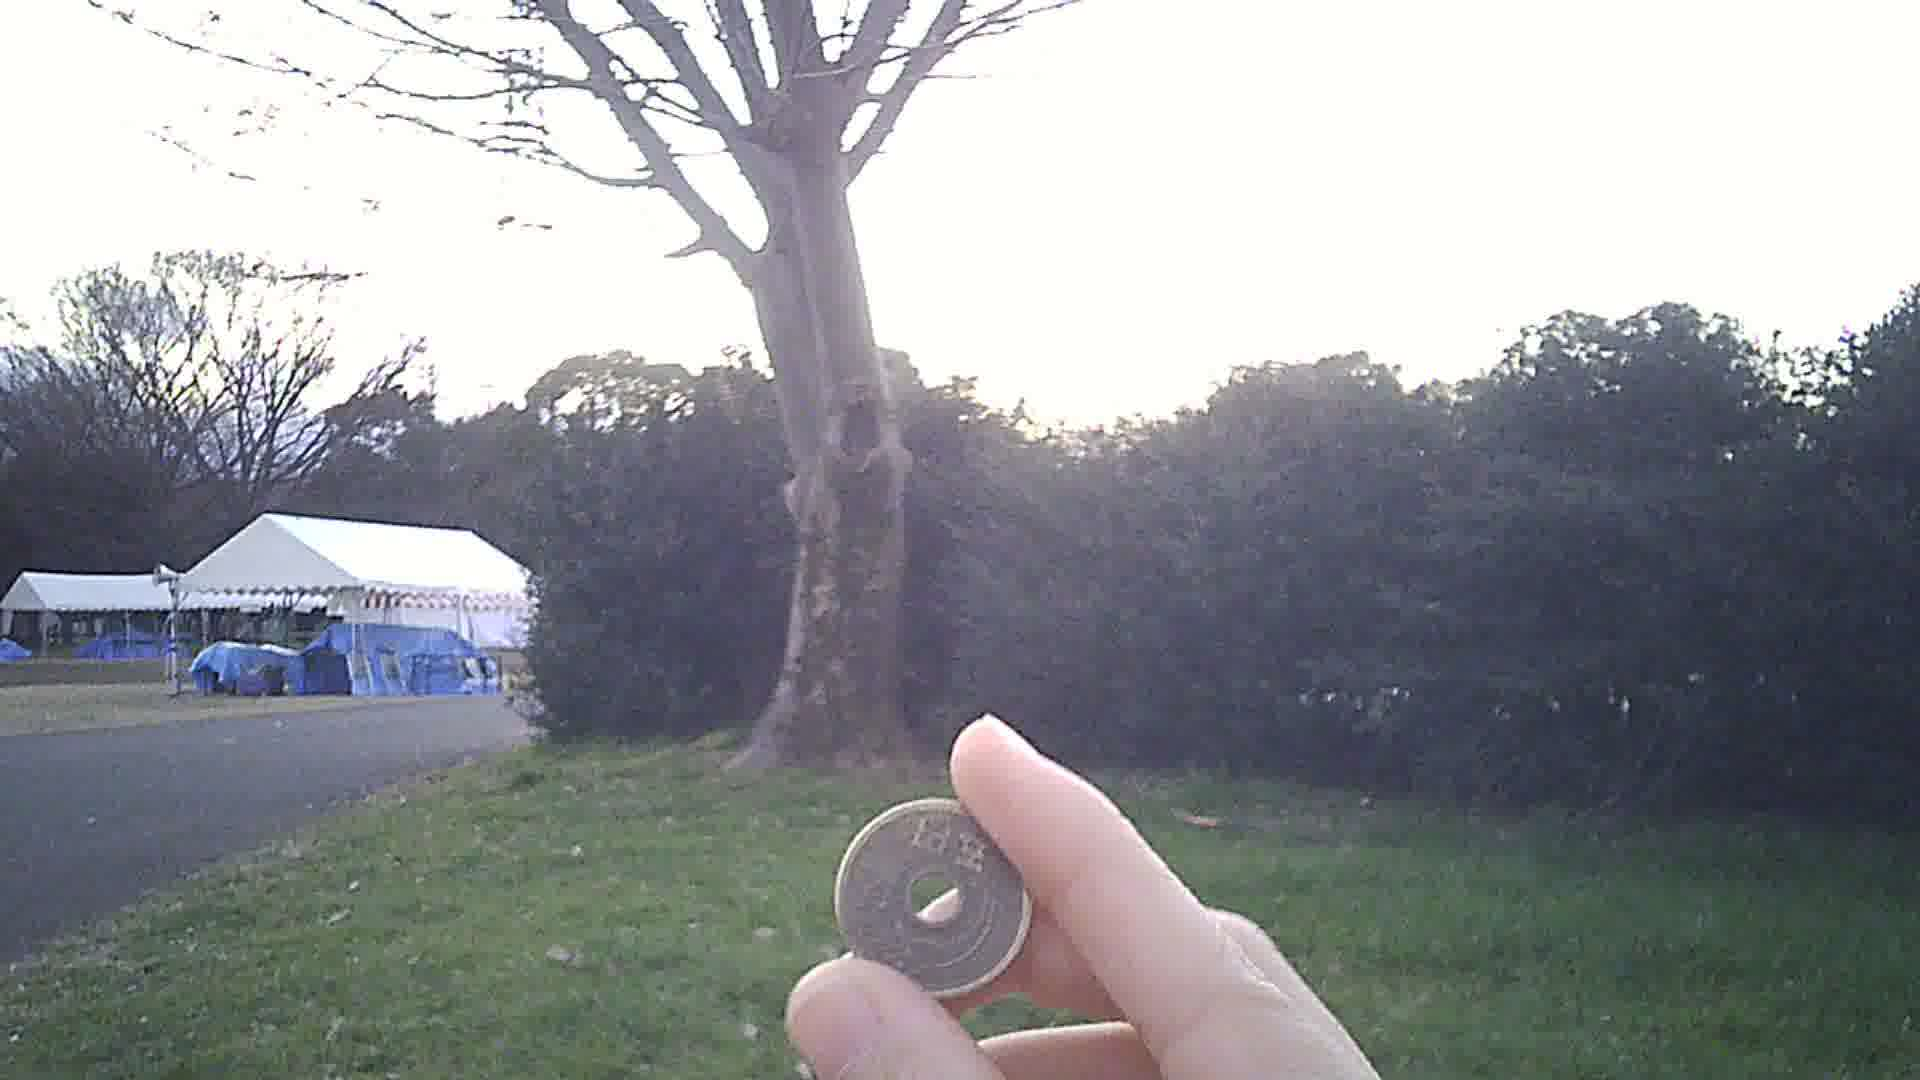5 Yen: (823, 796, 1033, 1001)
